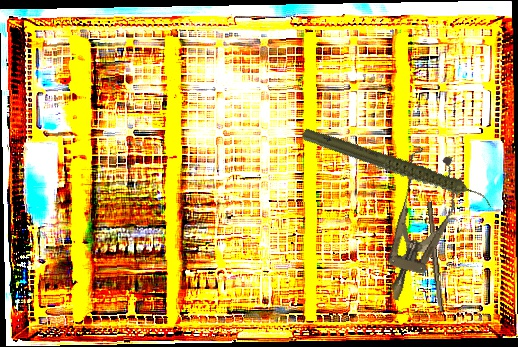Handpiece: (297, 91, 497, 247)
Scalpel Handle: (423, 201, 446, 313)
Speculum: (366, 144, 469, 309)
